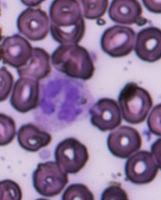N: (36, 76, 92, 131)
